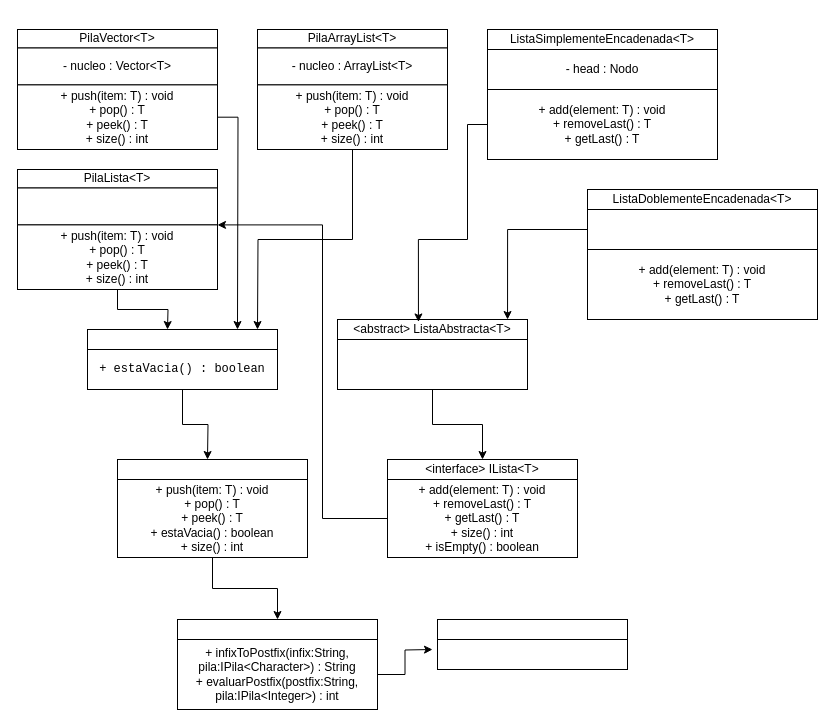
Some shapes in this 835 by 727 pixel diagram are drawn without their labels. The centre of each missing label's shape, as x and y in pixels:
"+ size() : int + isEmpty() : boolean" goes at (x=432, y=364).
"- head : Nodo - tail : Nodo" goes at (x=702, y=229).
"- lista : ILista<T>" goes at (x=117, y=206).
"<interface> IPila<T>" goes at (x=212, y=469).
"<interface> PilaAbstracta<T>" goes at (x=182, y=339).
"CalculadoraExpresiones" goes at (x=277, y=629).
"Main" goes at (x=532, y=629).
"main(args : String() : void" goes at (x=532, y=654).
